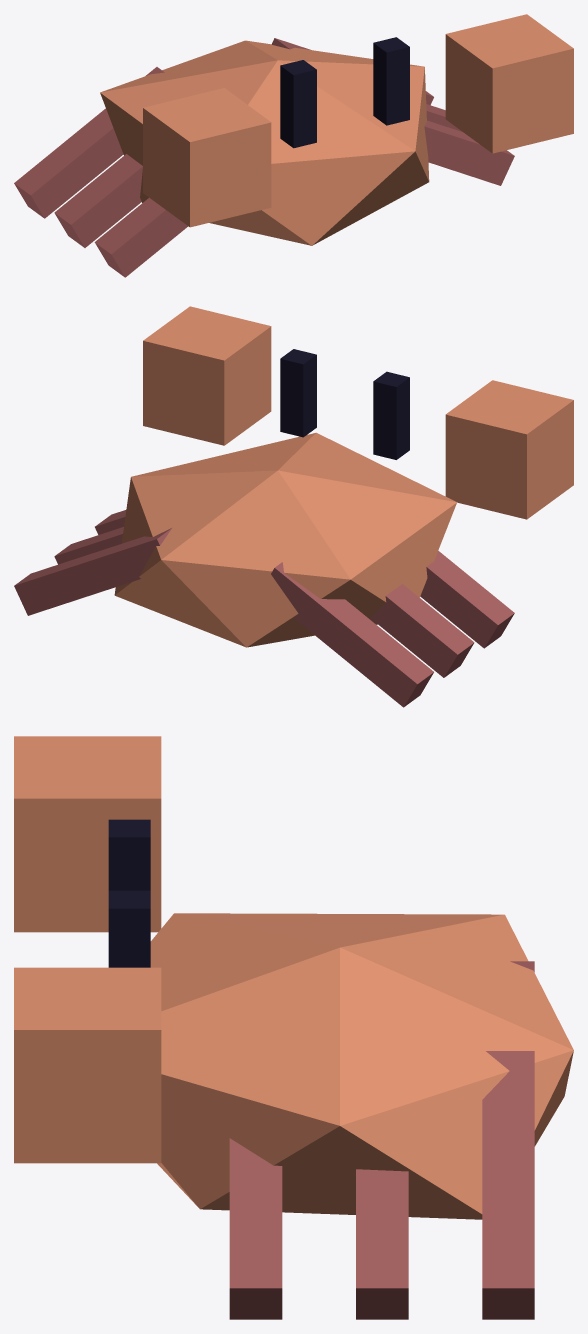
The model's file is crab.glb.
3 views of the same model, one above another, from view 1: azimuth 30°, elevation 25°; view 2: azimuth 150°, elevation 25°; view 3: azimuth 270°, elevation 25° (orthographic). The views are drawn at different scales.
Parts seen in each view (by area): view 1: shell, claw-1, claw1, anim_y_p40.001, anim_y_m40, anim_y_p40, anim_y_m40.001, detail_eye1, detail_eye-1, anim_y_p40.002; view 2: shell, claw1, claw-1, anim_y_p40.001, anim_y_m40.002, anim_y_m40, anim_y_p40, detail_eye-1, detail_eye1, anim_y_p40.002; view 3: shell, claw1, claw-1, anim_y_m40.002, anim_y_m40.001, anim_y_p40.002, detail_eye1, detail_eye-1.
Boxes of the visible parts, x1,y1,x2,y2 form: shell: (100, 40, 429, 245); claw-1: (143, 88, 271, 227); claw1: (445, 14, 573, 153); anim_y_p40.001: (14, 67, 164, 218); anim_y_m40: (54, 154, 142, 247); anim_y_p40: (94, 197, 188, 277); anim_y_m40.001: (424, 120, 514, 185); detail_eye1: (373, 37, 409, 125); detail_eye-1: (280, 60, 316, 148); anim_y_p40.002: (426, 104, 462, 131); shell: (114, 432, 456, 647); claw1: (143, 306, 271, 445); claw-1: (445, 380, 573, 519); anim_y_p40.001: (271, 562, 433, 707); anim_y_m40.002: (14, 528, 171, 615); anim_y_m40: (370, 584, 474, 677); anim_y_p40: (420, 551, 514, 648); detail_eye-1: (373, 371, 409, 459); detail_eye1: (280, 349, 316, 437); anim_y_p40.002: (54, 527, 123, 564); shell: (150, 913, 573, 1219); claw1: (14, 967, 161, 1163); claw-1: (14, 736, 161, 932); anim_y_m40.002: (482, 1051, 534, 1319); anim_y_m40.001: (229, 1138, 282, 1319); anim_y_p40.002: (356, 1169, 408, 1319); detail_eye1: (108, 890, 150, 967); detail_eye-1: (108, 819, 150, 890).
Size of the model in its own units: 0.3468 by 0.1756 by 0.2661.
